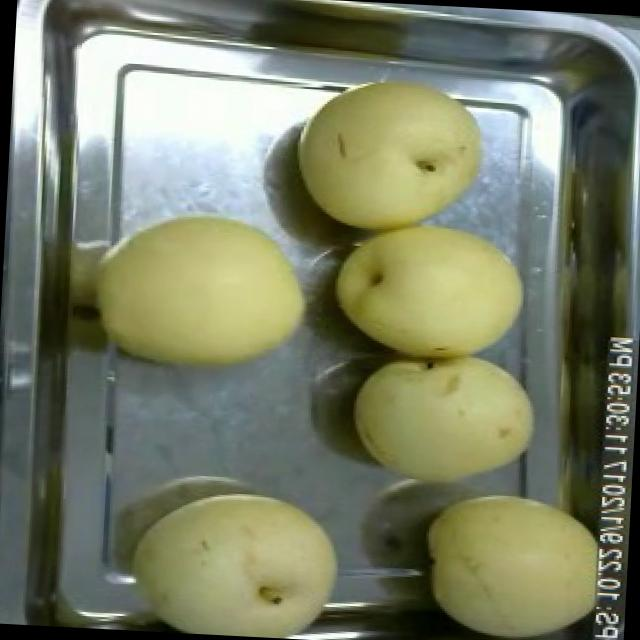Fruit: (81, 200, 318, 390), (282, 60, 498, 249), (117, 472, 358, 640), (336, 339, 554, 506), (320, 208, 539, 371), (412, 477, 626, 640)
